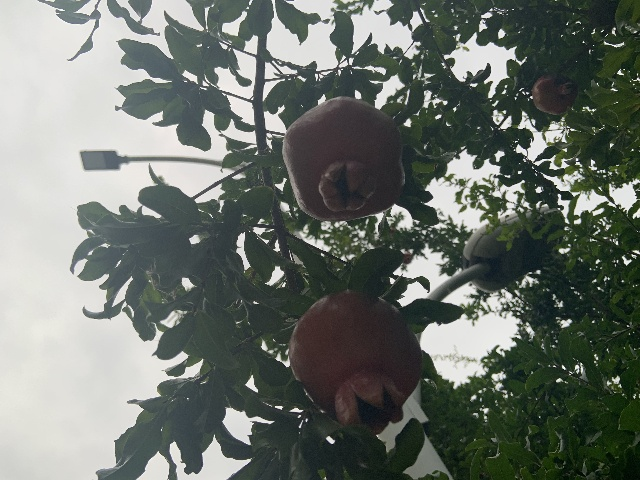ripe: (288, 290, 423, 434), (281, 96, 405, 220), (532, 74, 578, 115), (403, 253, 412, 263)
